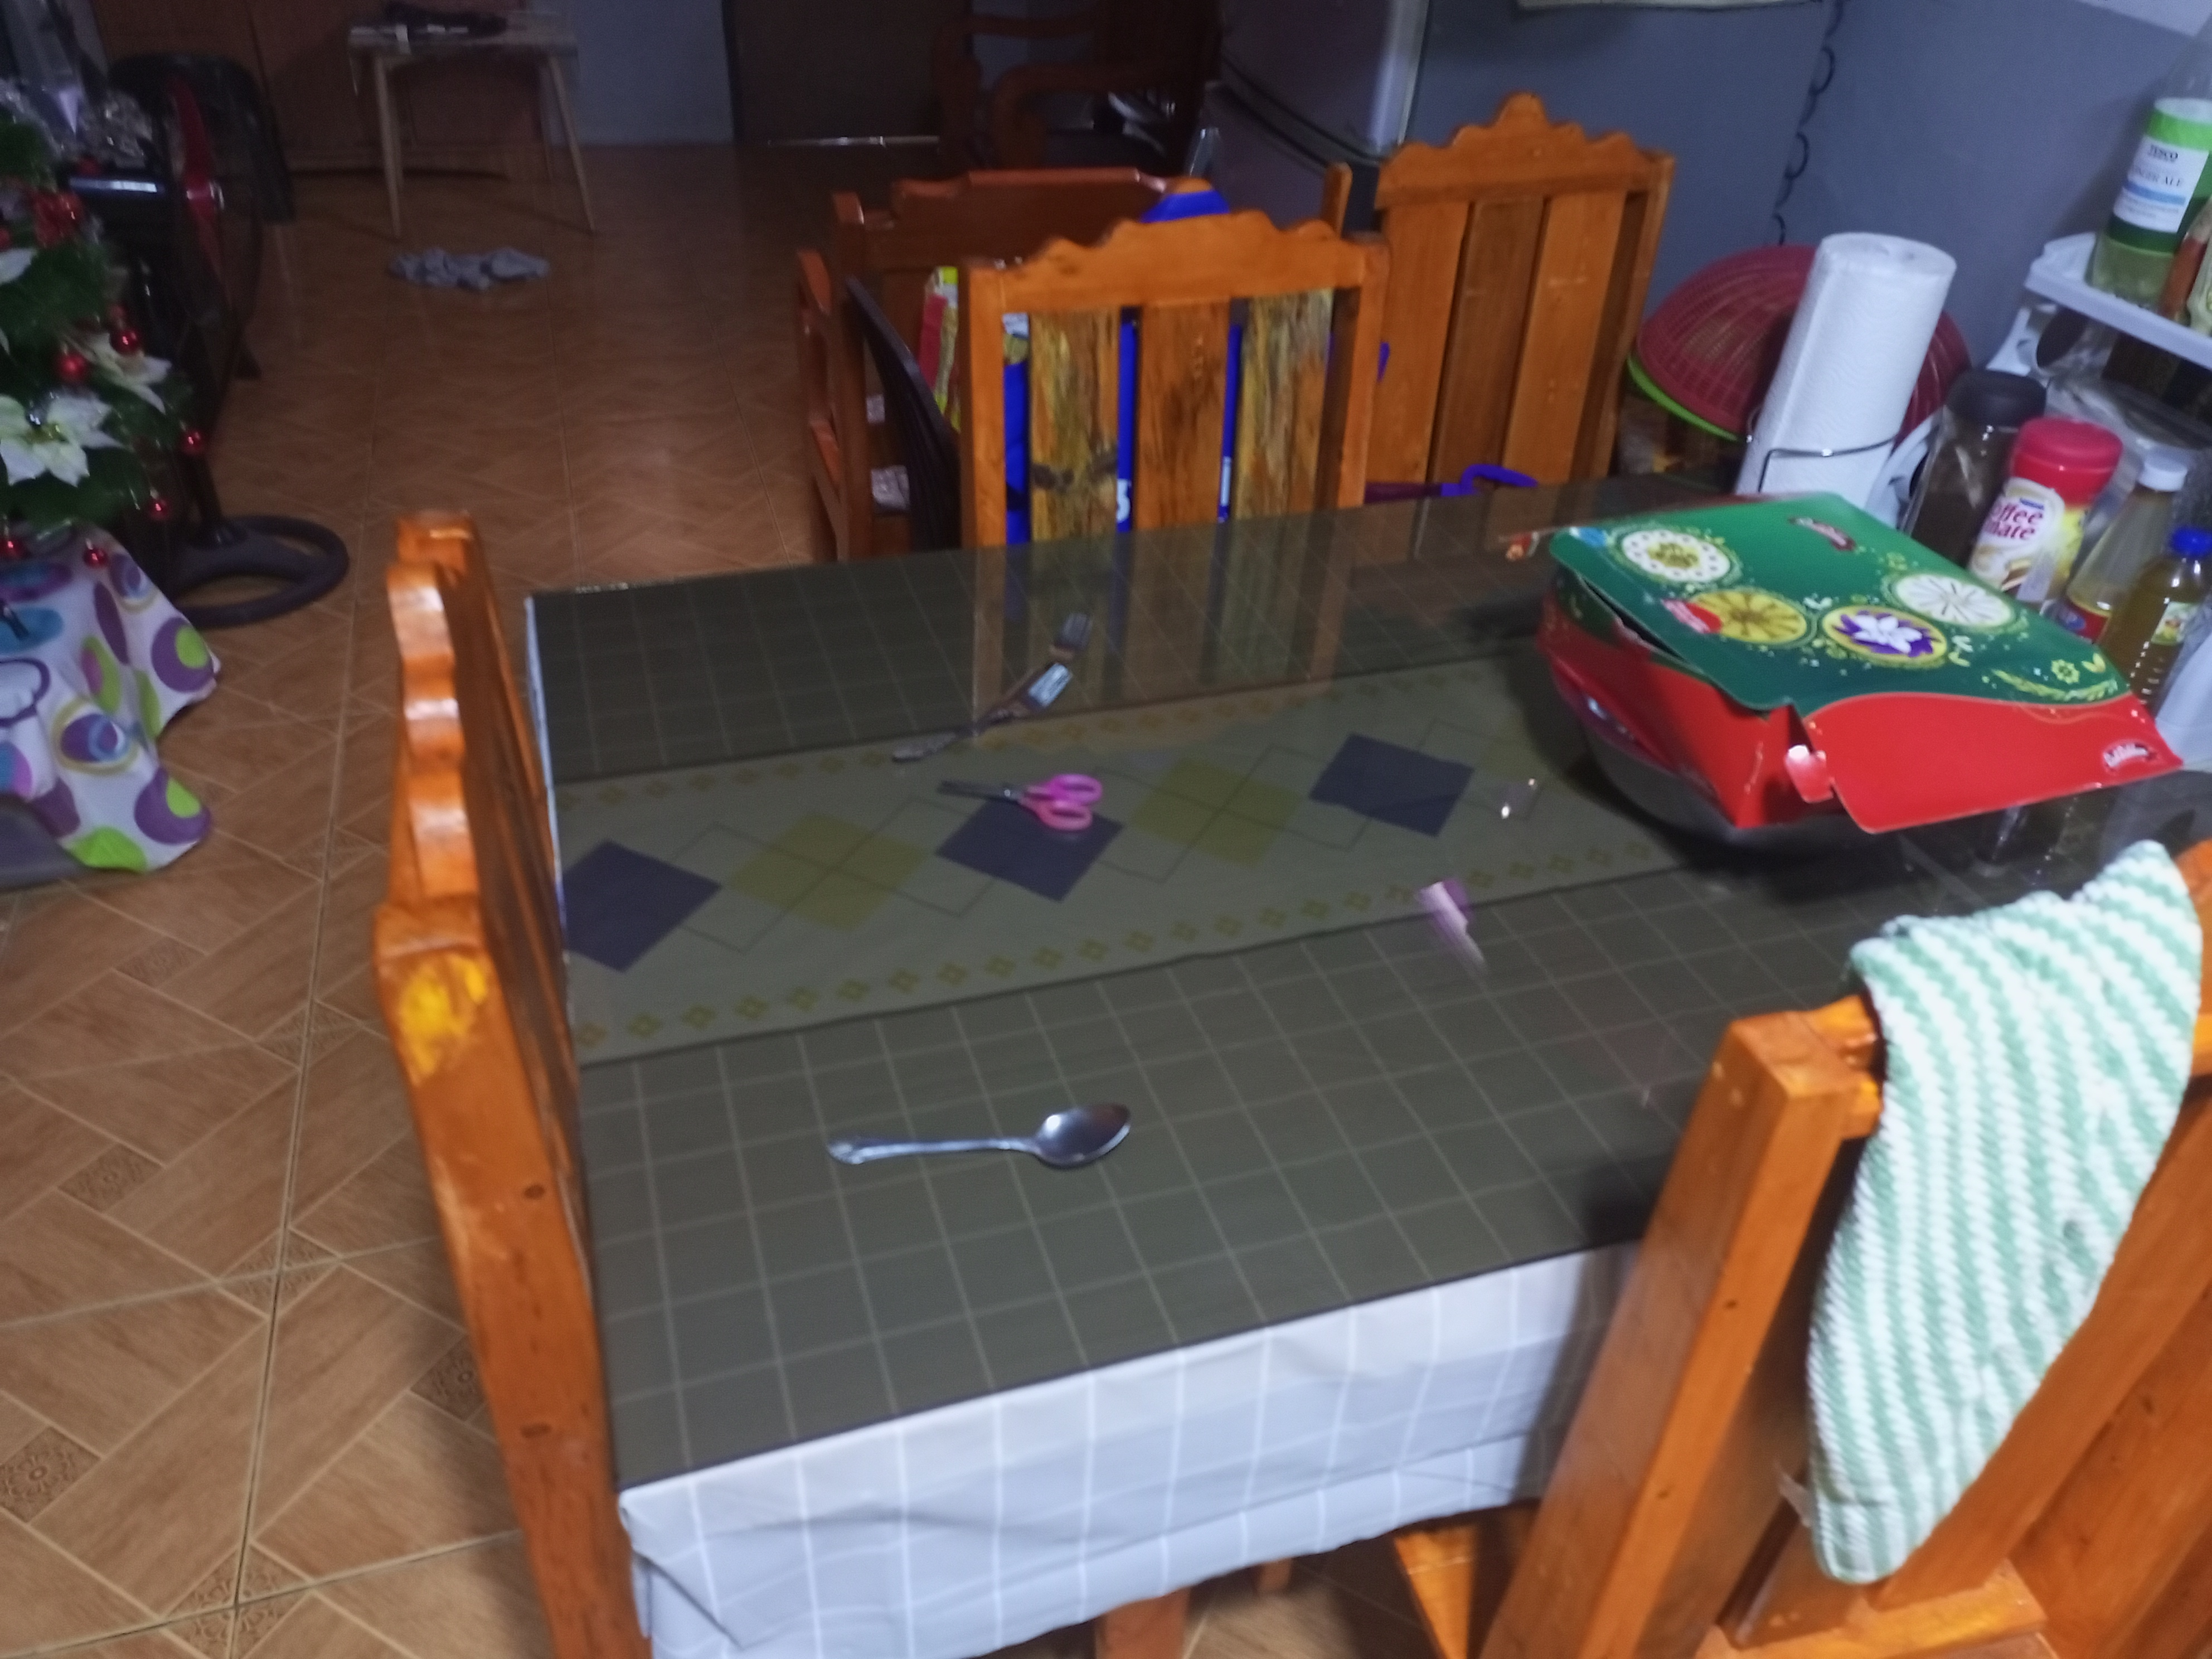spoon: (826, 1103, 1144, 1176)
